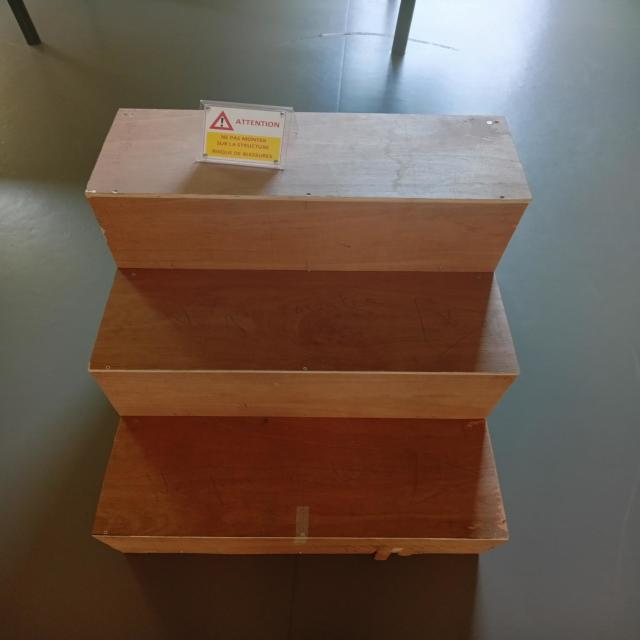Stairs: (65, 174, 568, 584)
